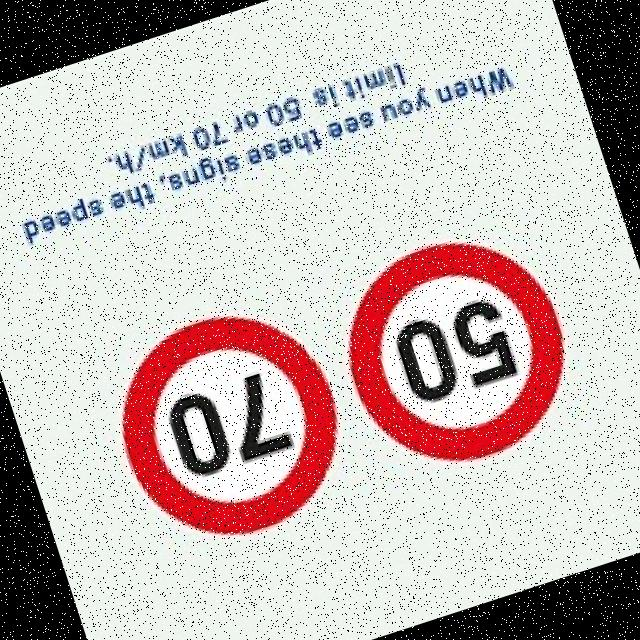speed_limit_50: (311, 204, 598, 493)
speed_limit_70: (85, 280, 378, 576)
